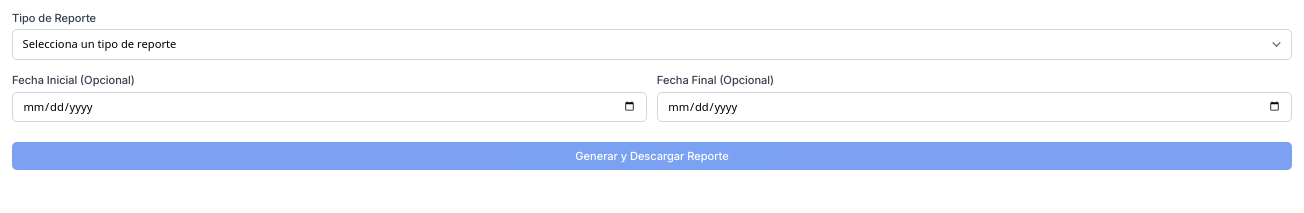
Scenario: ReportsWidget.vue › disables button until report type is selected and validates date range
This screenshot has width=1304, height=213.
Expected: the button "Generar y Descargar Reporte" is disabled, top-left (12, 142), bottom-right (1292, 170)
Select "Procesos Activos" in the dropdown with id "reportType". click: (652, 44)
box: top-left (12, 29), bottom-right (1292, 60)
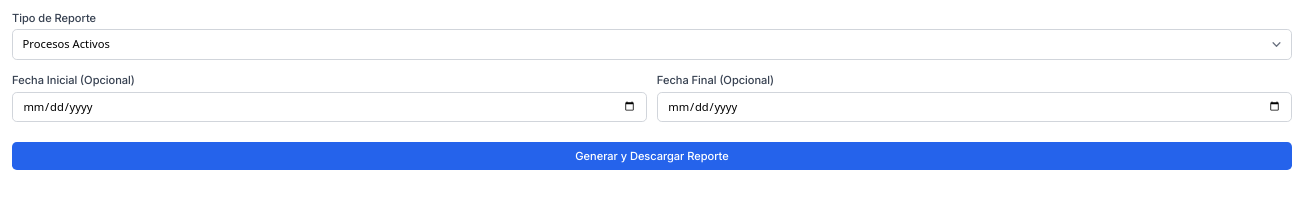
Expected: the button "Generar y Descargar Reporte" is enabled, top-left (12, 142), bottom-right (1292, 170)
Type "2026-01-10" into the date field with id "startDate". click: (330, 107)
box: top-left (12, 92), bottom-right (647, 122)
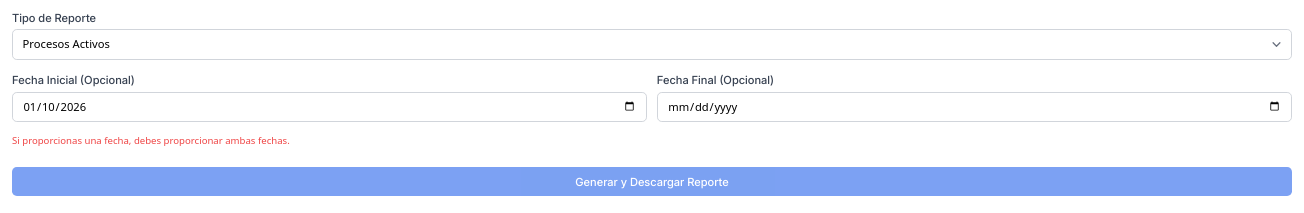
Expected: the text "Si proporcionas una fecha, debes proporcionar ambas fechas." is shown, top-left (12, 134), bottom-right (290, 147)
Expected: the button "Generar y Descargar Reporte" is disabled, top-left (12, 167), bottom-right (1292, 196)
Type "2026-01-01" into the date field with id "endDate". click: (974, 107)
box: top-left (657, 92), bottom-right (1292, 122)
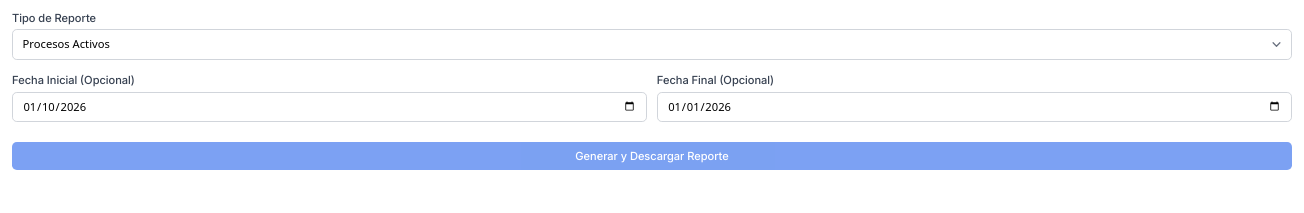
Expected: the button "Generar y Descargar Reporte" is disabled, top-left (12, 142), bottom-right (1292, 170)
Type "2026-01-31" into the date field with id "endDate". click: (974, 107)
box: top-left (657, 92), bottom-right (1292, 122)
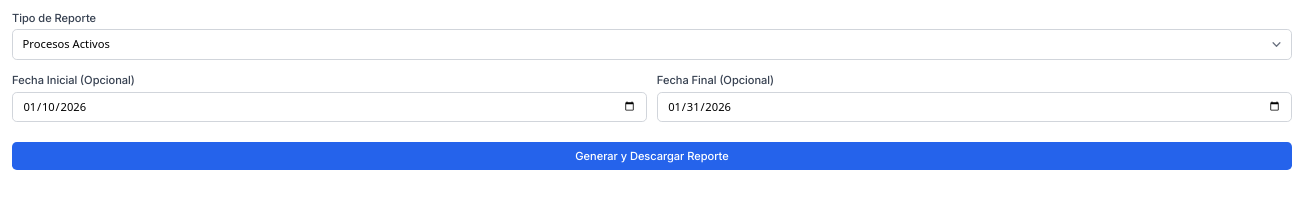
Expected: the button "Generar y Descargar Reporte" is enabled, top-left (12, 142), bottom-right (1292, 170)
